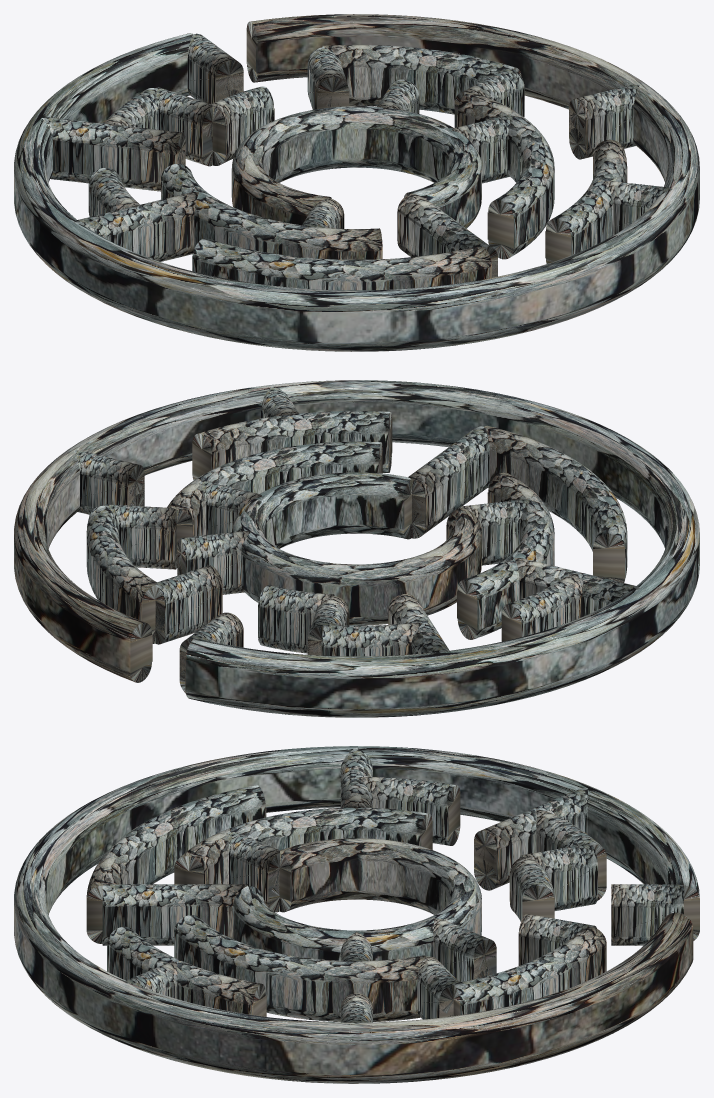
File: lvl1_maze.fbx
3 views of the same model, one above another, from view 1: azimuth 30°, elevation 25°; view 2: azimuth 150°, elevation 25°; view 3: azimuth 270°, elevation 25° (orthographic).
Parts seen in each view (by area): view 1: Curve.012; view 2: Curve.012; view 3: Curve.012.
Part boxes in pixels (x1,y1,x2,y2): Curve.012: (14,14,699,351); Curve.012: (14,380,699,717); Curve.012: (14,746,699,1083).
Bounding box in the file's own units: 1066 × 100 × 1066.
